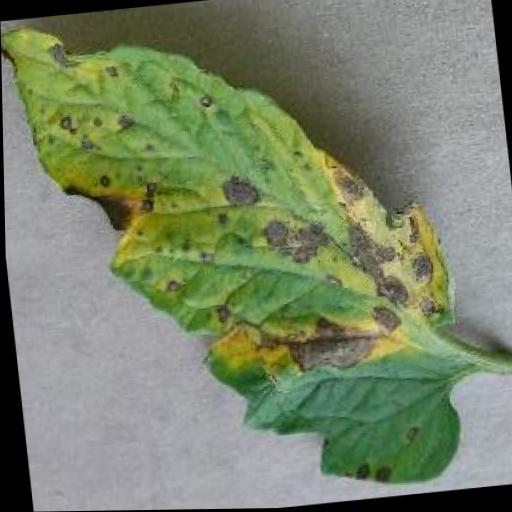Early Blight: (0, 0, 472, 512)
